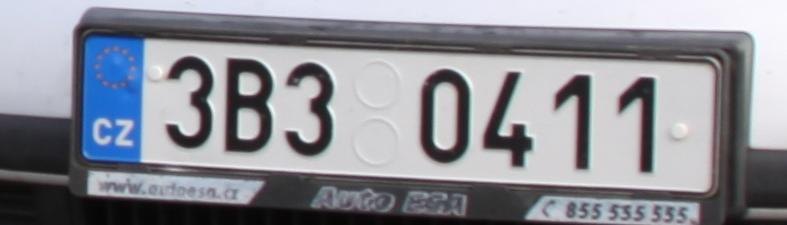0: (422, 69, 469, 162)
1: (618, 78, 655, 172), (555, 75, 591, 169)
3: (285, 62, 333, 155), (166, 56, 211, 151)
4: (485, 72, 533, 168)
B: (227, 57, 274, 153)
